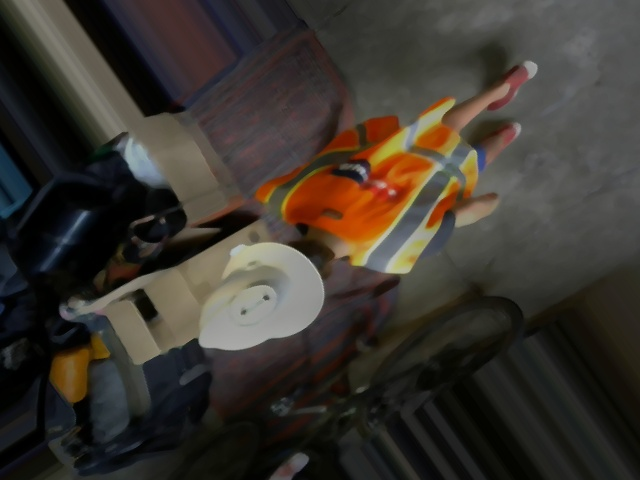one: (218, 274, 286, 334)
